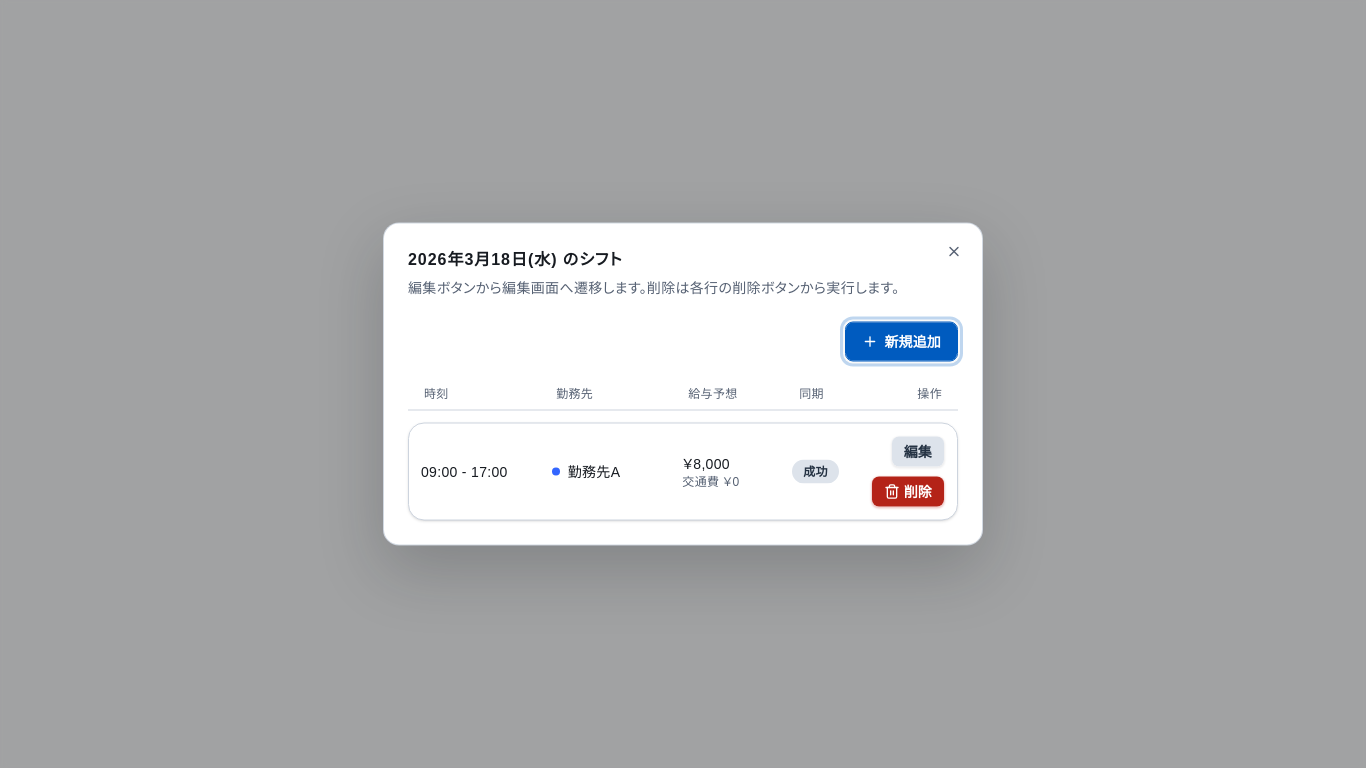
Test: shift flow integration › deletes a shift from shift list modal
The image size is (1366, 768).
Click the button "削除" at (908, 492), box [871,476,945,508]
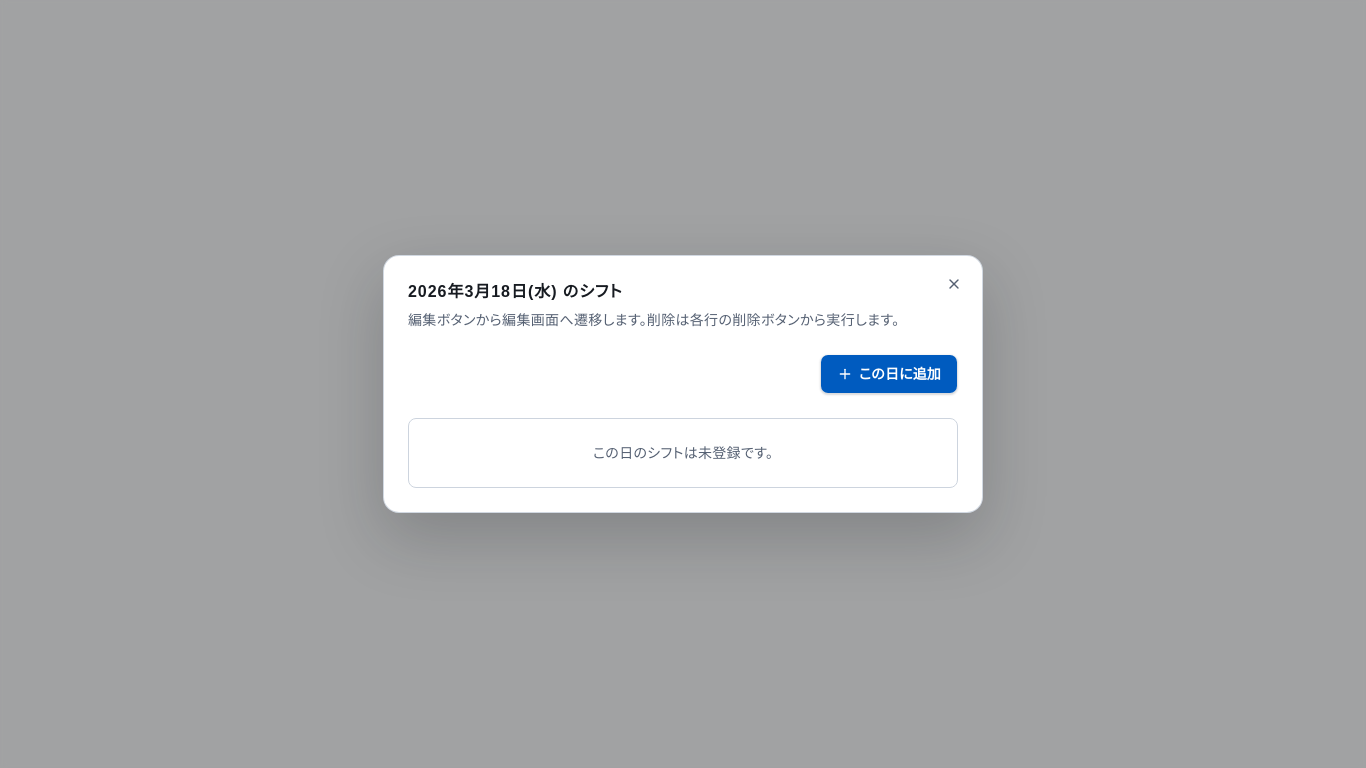
Expected: the dialog is shown, [383,255,983,513]
Now the text "勤務先A" is gone
